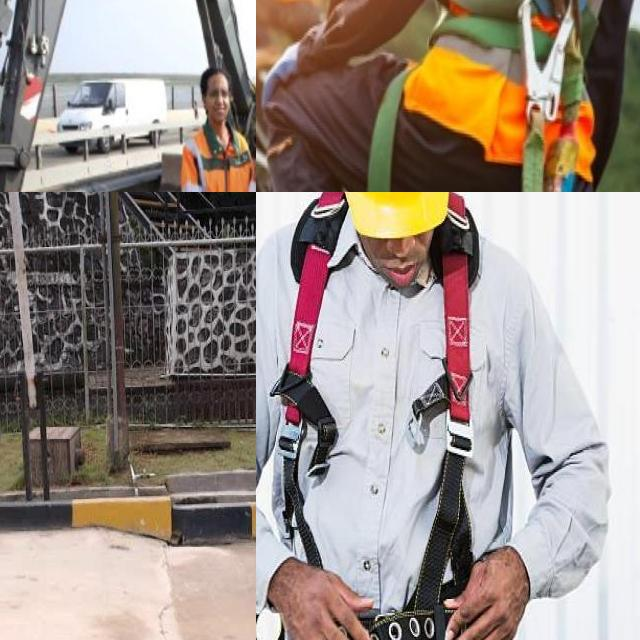Harness: (403, 193, 480, 616), (431, 0, 599, 192), (270, 192, 347, 568)
face_nomask: (207, 86, 232, 123)
head_nohelmet: (196, 60, 232, 91)
person: (181, 67, 256, 192)
vest: (184, 124, 256, 192)
